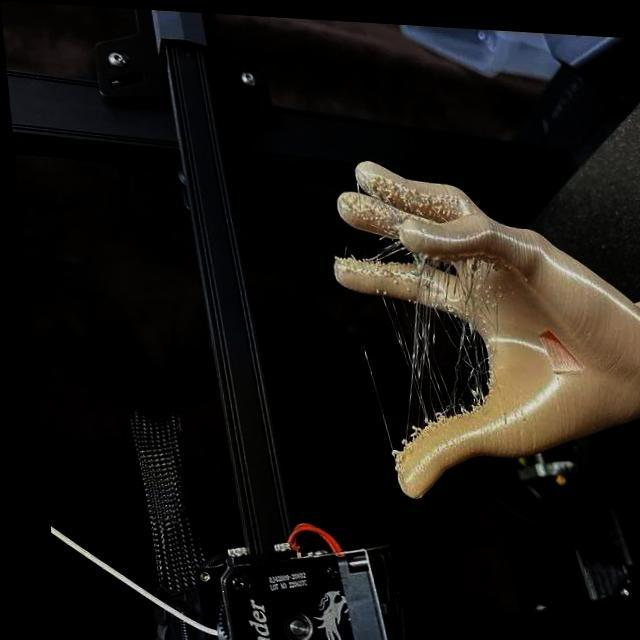stringing: (385, 254, 444, 447), (371, 287, 425, 421), (439, 310, 483, 410), (365, 229, 408, 258)
